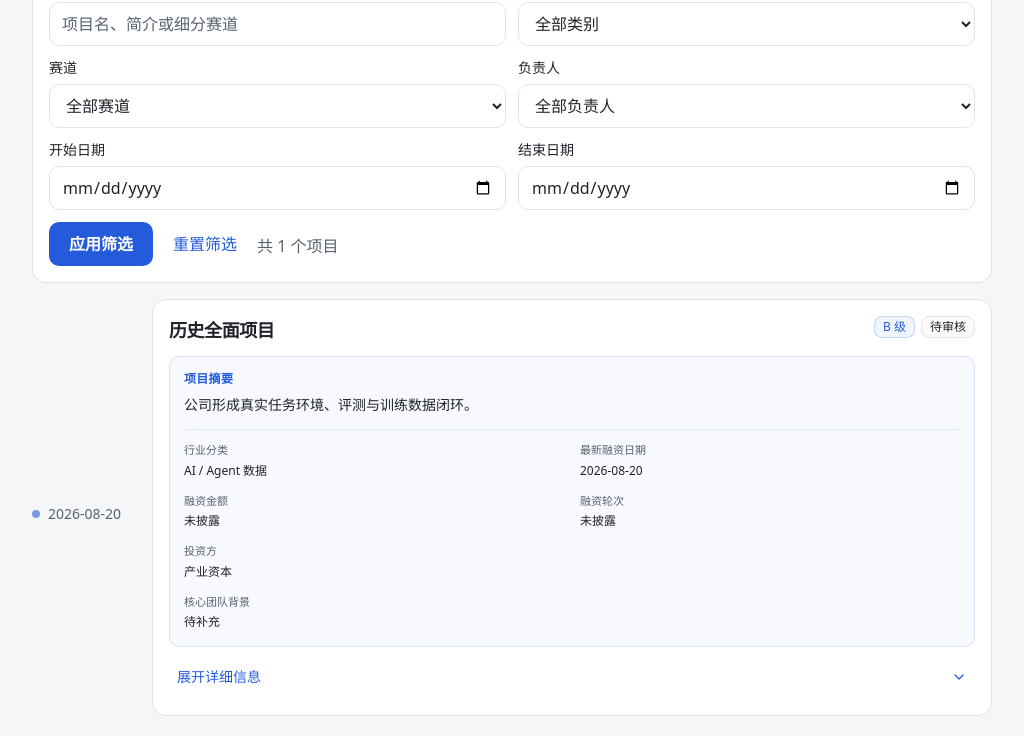
keeps older comprehensive discoveries in all projects with the familiar card actions
The image size is (1024, 736).
(page scrolled)
Expected: the element named "历史全面项目投资速览" shows "行业分类", [184, 442, 228, 457]
Expected: the text "Agent 数据平台" is not shown
Click the button with aria-label "查看历史全面项目项目详情".
click(219, 676)  # box [169, 655, 975, 699]
(page scrolled)
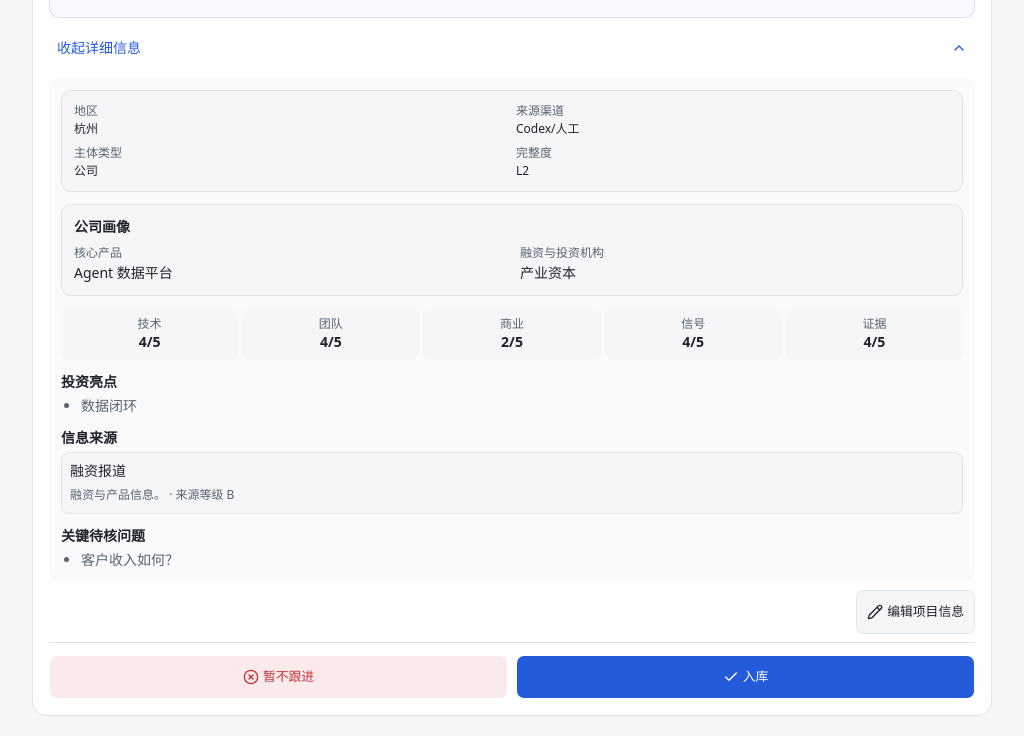
Result: the text "Agent 数据平台" is shown at [74, 263, 173, 282]
Result: the button with aria-label "编辑历史全面项目信息" is shown at [856, 590, 975, 634]
Result: the button with aria-label "暂不跟进历史全面项目" is shown at [49, 655, 508, 699]
